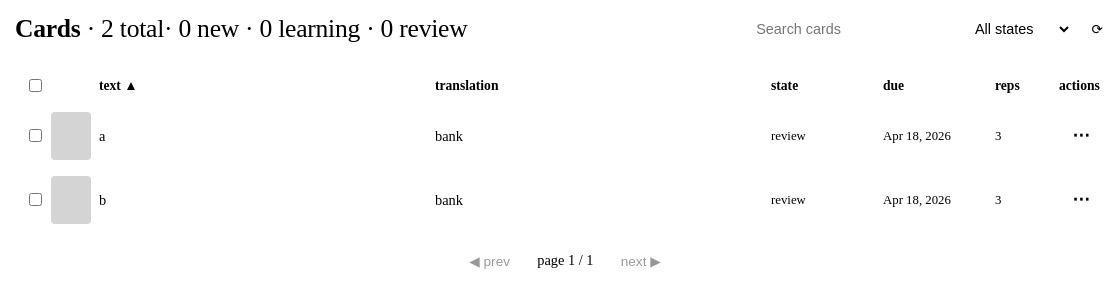
it: cards/+page.svelte › clicking header checkbox when nothing is selected selects all items
The image size is (1120, 286).
expect the text "a" is shown: met, box [99,128,105,144]
Click the checkbox in the row of "actions". click: [36, 86]
box: [29,79,42,92]
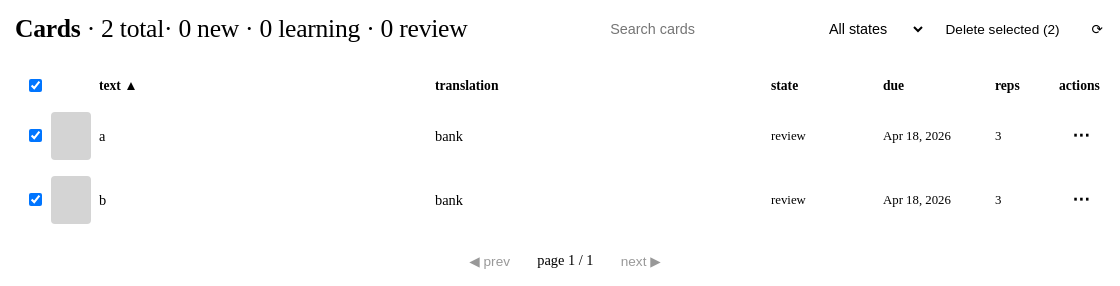
expect the button "Delete selected (2)" is shown: met, box [934,16,1072,42]
